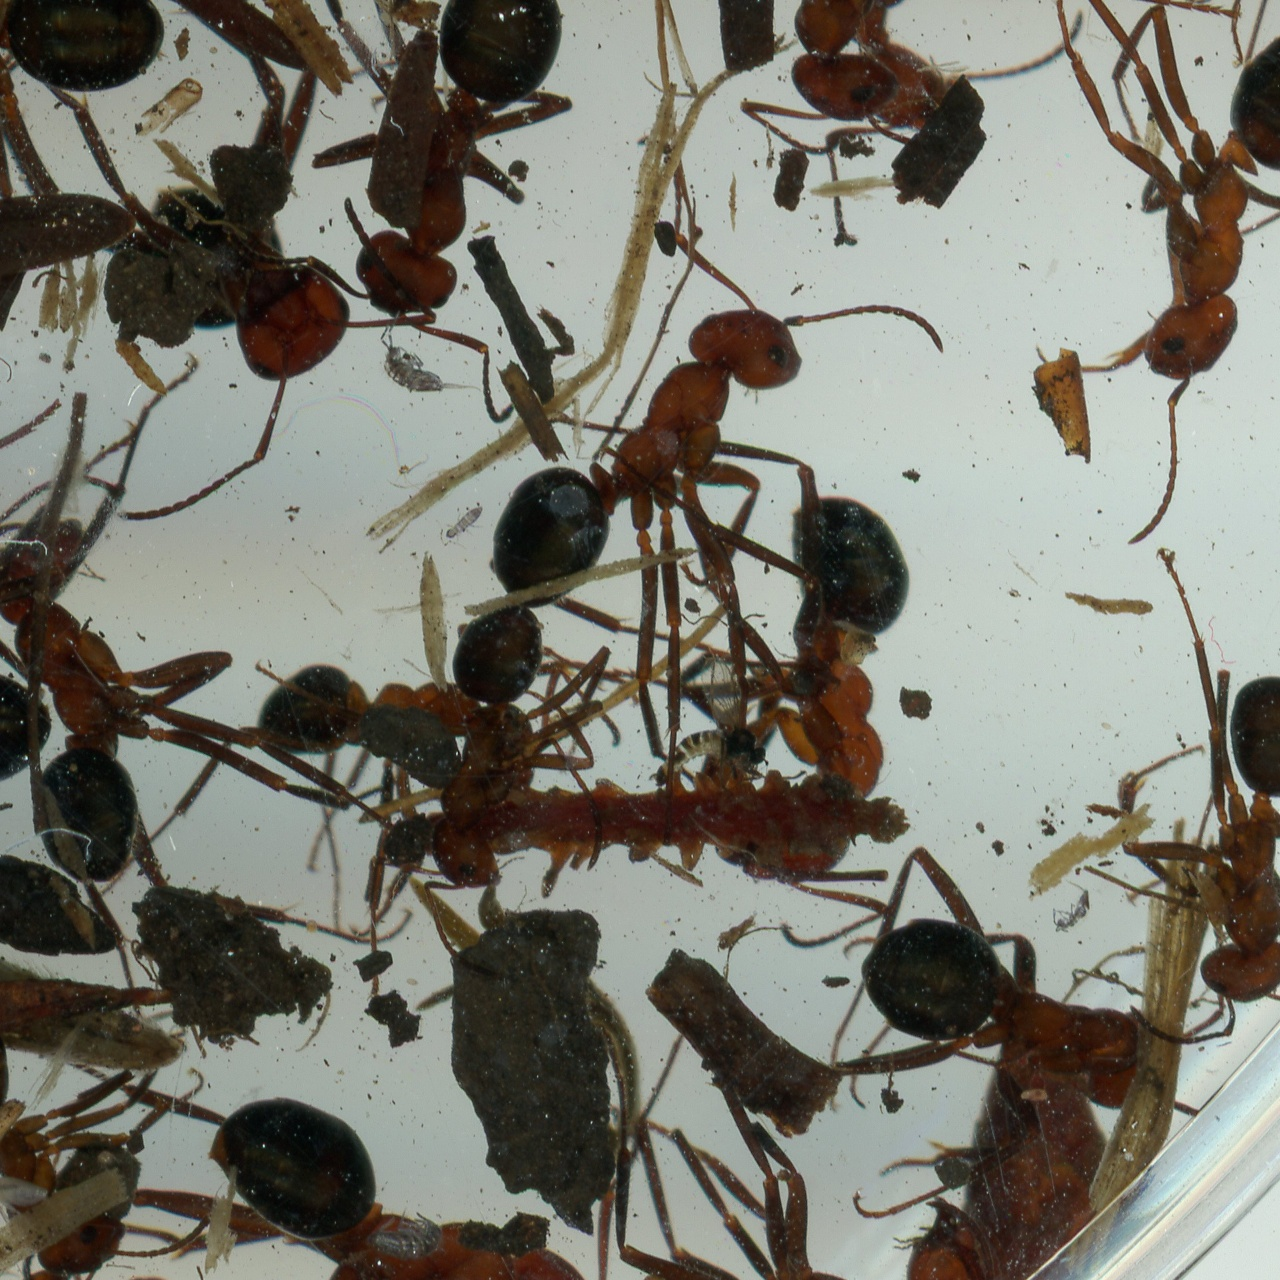arthropod: (474, 204, 964, 703), (57, 38, 509, 522), (0, 1015, 750, 1280), (0, 488, 407, 947), (810, 822, 1246, 1177), (1039, 0, 1280, 559), (305, 0, 576, 429), (667, 496, 917, 948), (597, 1029, 999, 1280), (1078, 553, 1280, 1051), (413, 586, 649, 976), (148, 659, 570, 844), (713, 0, 1032, 177), (0, 1039, 224, 1280), (0, 0, 182, 290), (0, 1129, 254, 1280), (0, 389, 62, 797), (649, 648, 772, 794), (375, 318, 491, 399), (0, 1149, 75, 1254), (366, 1208, 445, 1262), (1049, 874, 1095, 939), (433, 501, 488, 550)
